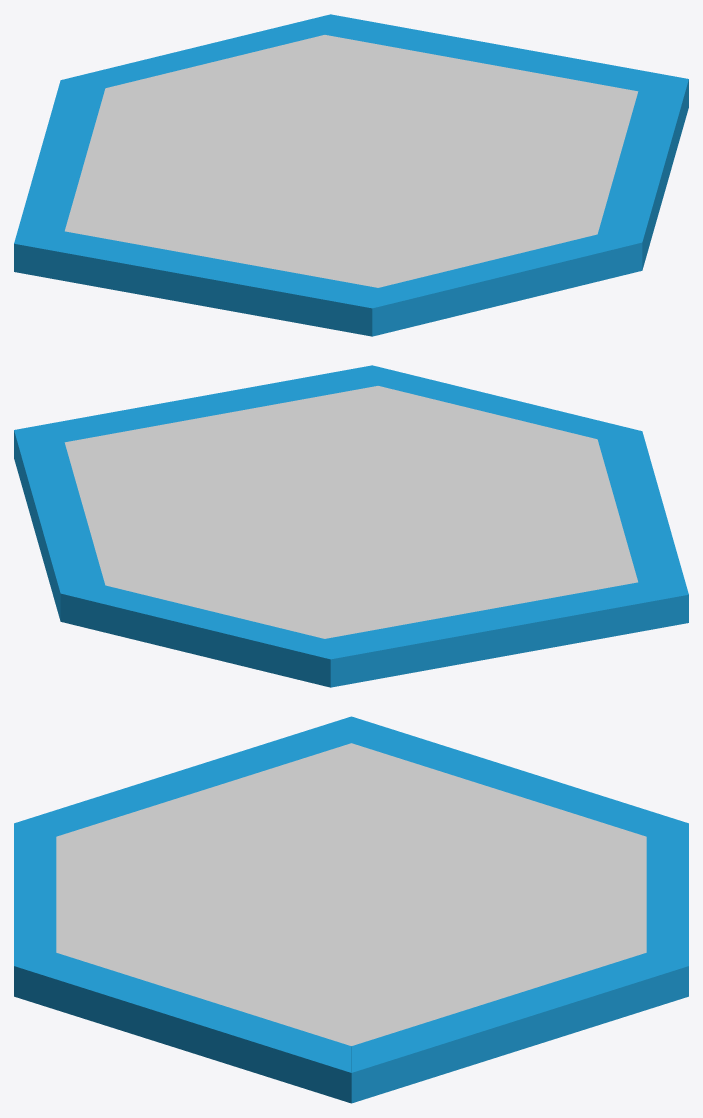
3 views of the same model, one above another, from view 1: azimuth 30°, elevation 25°; view 2: azimuth 150°, elevation 25°; view 3: azimuth 270°, elevation 25° (orthographic). The views are drawn at different scales.
Visible parts, largest first — view 1: Hexagon, SW, S, SE, NE, NW, N; view 2: Hexagon, NW, N, NE, SE, SW, S; view 3: Hexagon, SE, NE, NW, SW, S, N.
Part boxes in pixels (box(x1,y1,x2,y2)): Hexagon: box(65, 35, 638, 287); SW: box(14, 231, 377, 336); S: box(372, 234, 642, 336); SE: box(598, 79, 688, 269); NE: box(325, 14, 687, 91); NW: box(14, 80, 105, 243); N: box(61, 14, 330, 88); Hexagon: box(64, 386, 637, 638); NW: box(325, 582, 688, 687); N: box(60, 585, 330, 687); NE: box(14, 430, 104, 620); SE: box(15, 365, 377, 442); SW: box(597, 431, 688, 594); S: box(372, 365, 641, 439); Hexagon: box(56, 743, 646, 1045); SE: box(14, 952, 351, 1103); NE: box(351, 952, 688, 1103); NW: box(351, 716, 688, 836); SW: box(14, 716, 351, 836); S: box(14, 823, 56, 965); N: box(646, 823, 688, 965).
Bounding box in the file's own units: 5 × 4 × 0.2.
